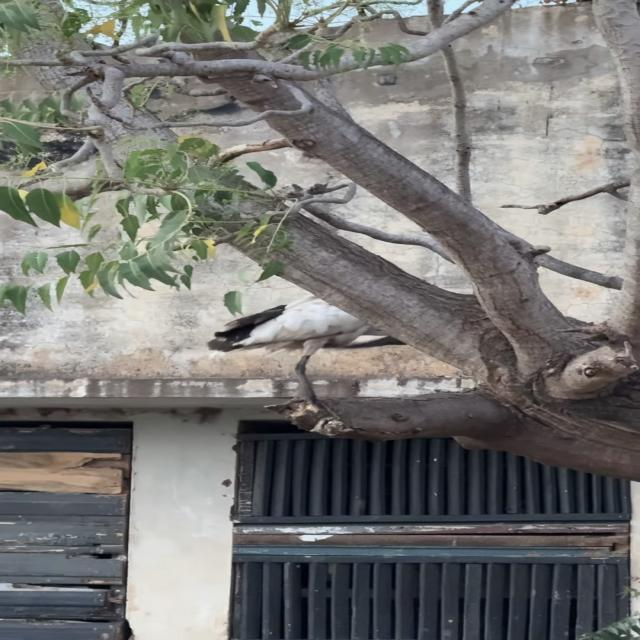Birds-Ibis: (200, 287, 430, 415)
